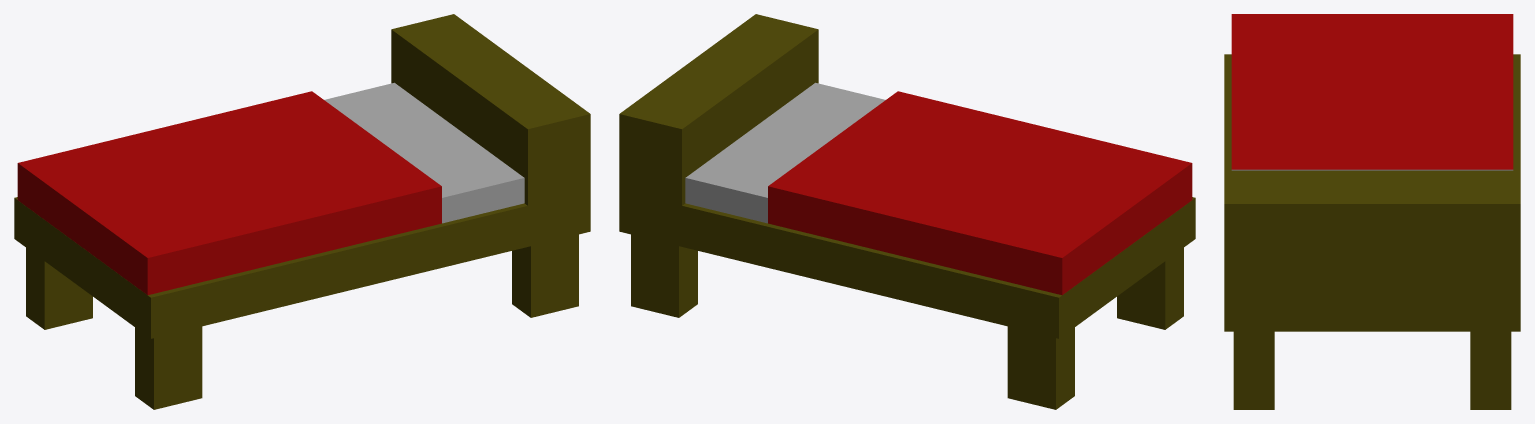
The model's file is bed.fbx.
3 renders of one model, left to right at view 1: azimuth 30°, elevation 25°; view 2: azimuth 150°, elevation 25°; view 3: azimuth 270°, elevation 25°, orthographic. The views are drawn at different scales.
Visible parts, largest first — view 1: pCube3; view 2: pCube3; view 3: pCube3.
Part boxes in pixels (left/top/right/bottom): pCube3: left=14, top=14, right=590, bottom=409; pCube3: left=619, top=14, right=1195, bottom=409; pCube3: left=1224, top=14, right=1520, bottom=409.
Size of the model in its own units: 19.87 by 8.36 by 10.69.
